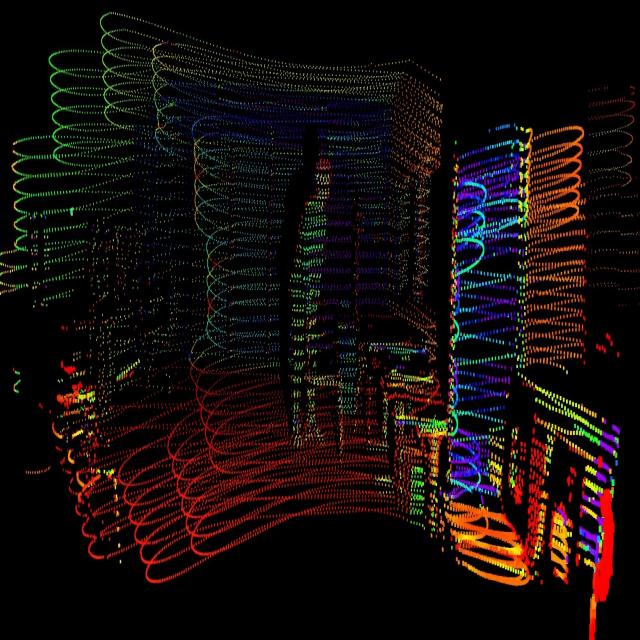human: (284, 140, 333, 453)
